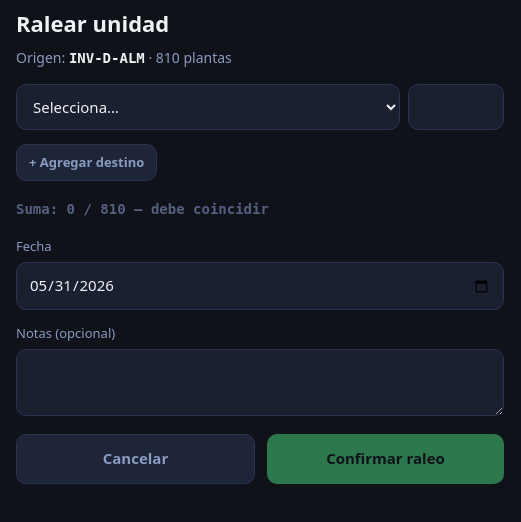
Test: RalearUpScreen › advierte capacidad excedida sin bloquear el envío (FR-013)
The image size is (521, 522).
Select "INV-A-P01 (máx 252)" in the dropdown named "ubicación destino 1" at {"x": 208, "y": 107}, box top-left (16, 84), bottom-right (400, 130)
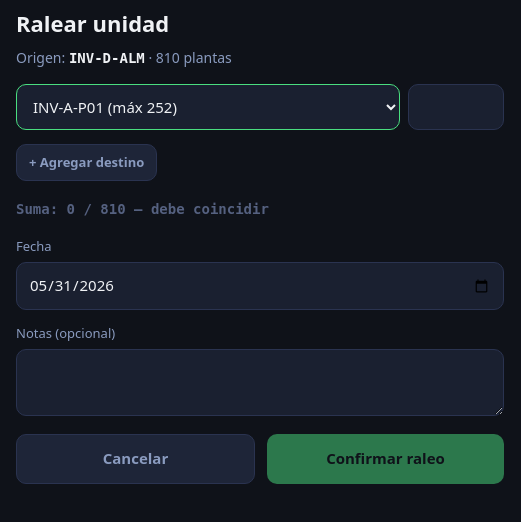
Type "810" into the number field named "cantidad destino 1" at {"x": 456, "y": 107}, box top-left (408, 84), bottom-right (504, 130)
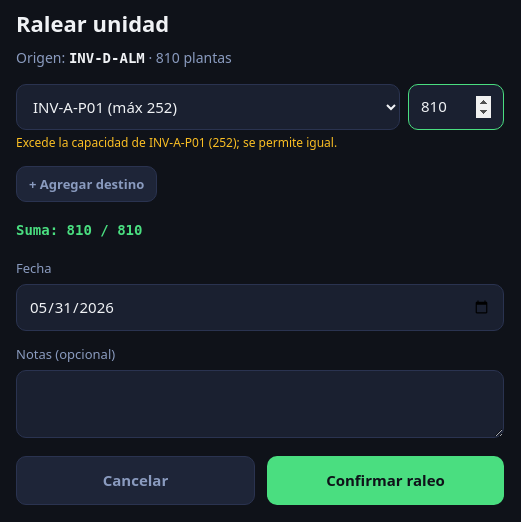
Expected: the text "Excede la capacidad de INV-A-P01 (252); se permite igual." is shown, top-left (16, 134), bottom-right (337, 151)
Expected: the button "Confirmar raleo" is enabled, top-left (267, 456), bottom-right (504, 506)
